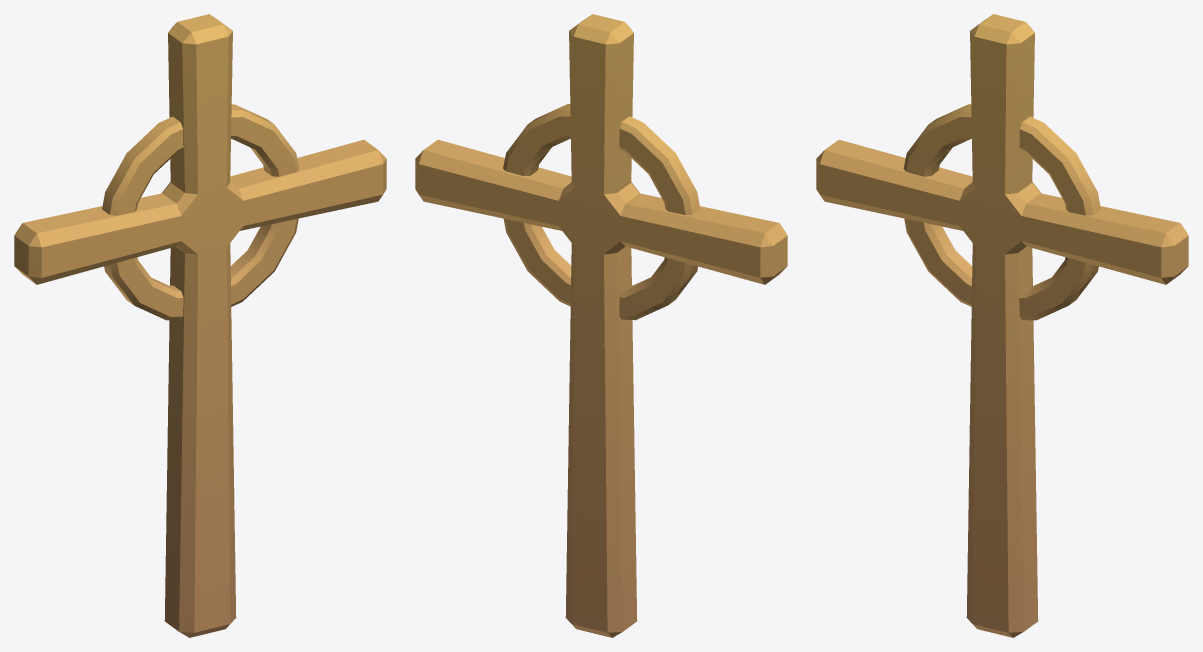
The model's file is Cross2_Gold.fbx.
3 renders of one model, left to right at view 1: azimuth 30°, elevation 25°; view 2: azimuth 150°, elevation 25°; view 3: azimuth 330°, elevation 25°, orthographic.
Visible parts, largest first — view 1: Cross2_Gold; view 2: Cross2_Gold; view 3: Cross2_Gold.
Boxes of the visible parts, x1,y1,x2,y2 form: Cross2_Gold: (14,14,386,637); Cross2_Gold: (415,14,787,637); Cross2_Gold: (816,14,1188,637).
Bounding box in the file's own units: 0.8239 × 1.33 × 0.0951.
Materials: 1 (1 with a texture image).
